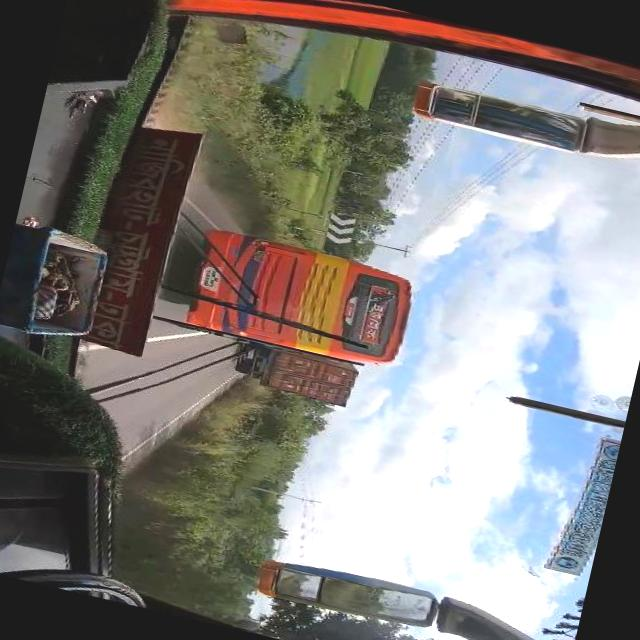bus: (185, 224, 420, 370)
truck: (237, 341, 362, 406)
